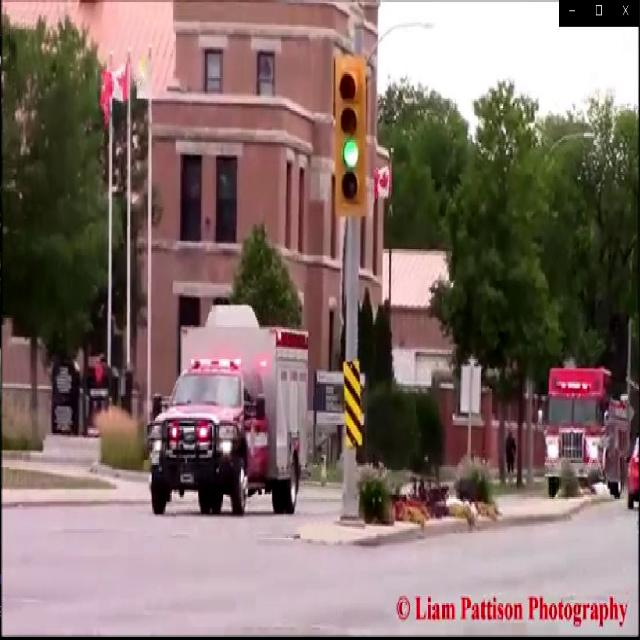emergency: (144, 315, 310, 532), (534, 365, 630, 505)
